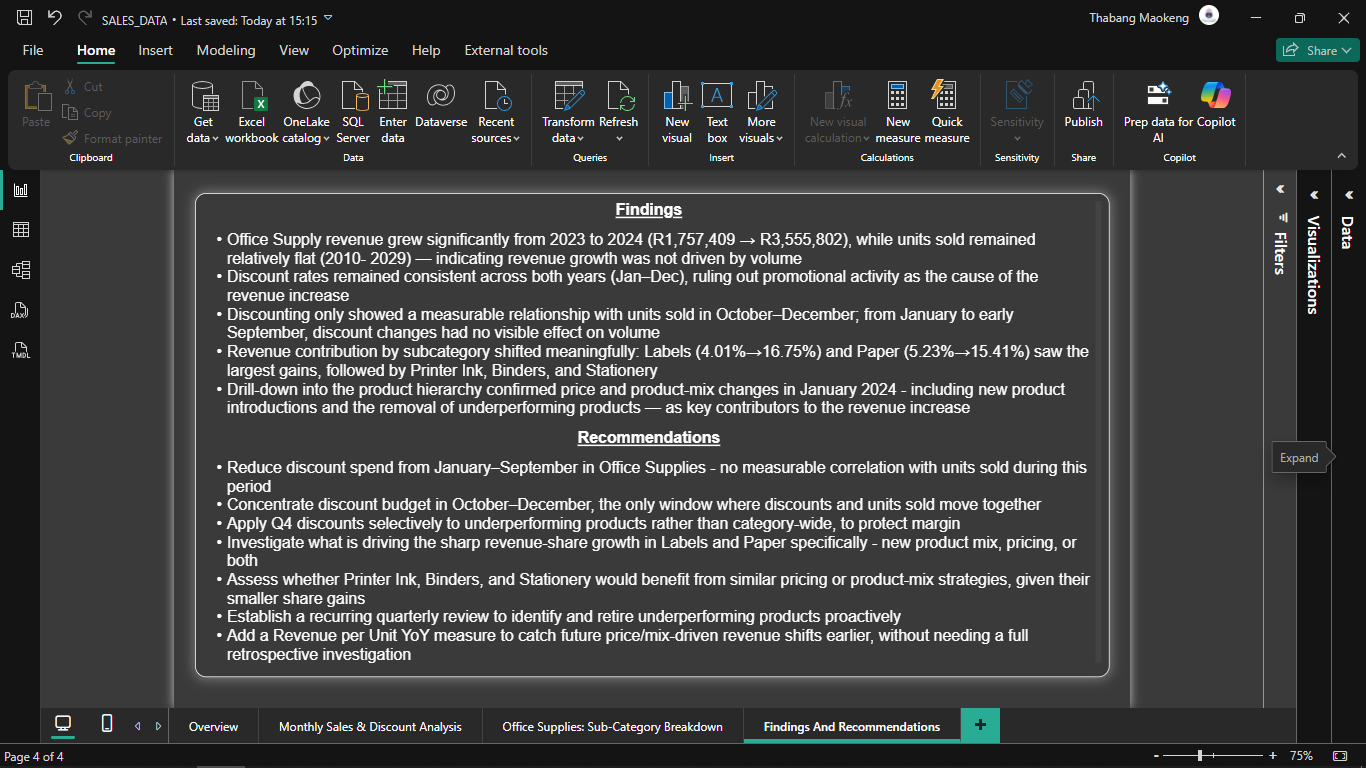

The dashboard page shown, as its layout file describes it:
{"tool":"powerbi","page":{"name":"Findings And Recommendations ","canvas":[1280,720],"ordinal":3},"visuals":[{"type":"textbox","box":[28.2,31,1223.6,648.5],"z":0}]}

Visuals, with their boxes on the page's 1280x720 design canvas (x1, y1, x2, y2). These are canvas units, not pixel positions in the 1366x768 screenshot, which may show the page scaled, cropped or inside an application window:
textbox: [x1=28, y1=31, x2=1252, y2=680]
